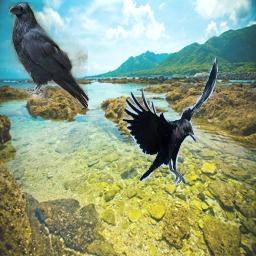Crow: (122, 56, 218, 186), (8, 2, 88, 108)
